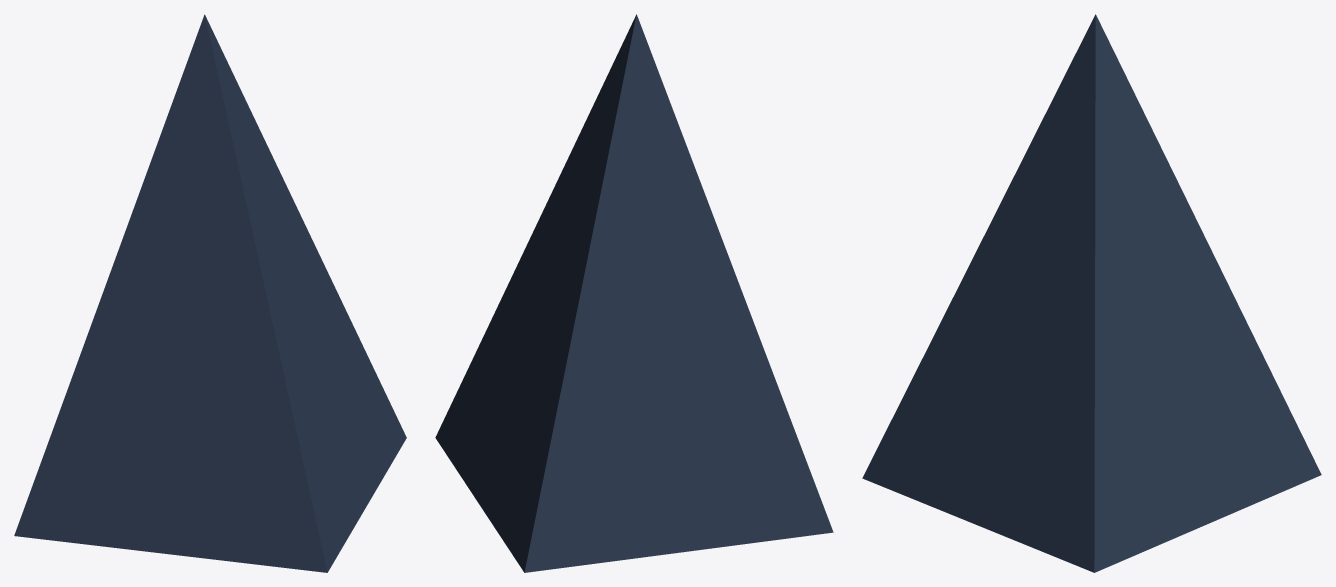
File: hill.FBX
3 views of the same model, side by side, from view 1: azimuth 30°, elevation 25°; view 2: azimuth 150°, elevation 25°; view 3: azimuth 270°, elevation 25° (orthographic). The views are drawn at different scales.
Parts seen in each view (by area): view 1: tree; view 2: tree; view 3: tree.
Part boxes in pixels (x1,y1,x2,y2): tree: (14, 14, 406, 572); tree: (435, 14, 833, 572); tree: (862, 14, 1321, 572).
Size of the model in its own units: 35.19 by 36.2 by 40.21.
1 material, 1 textured.
